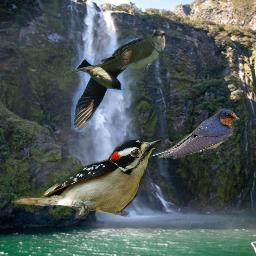Cuckoo: (64, 29, 166, 75)
Swallow: (71, 35, 143, 132), (150, 108, 240, 159)
Woodpecker: (14, 134, 164, 219)
